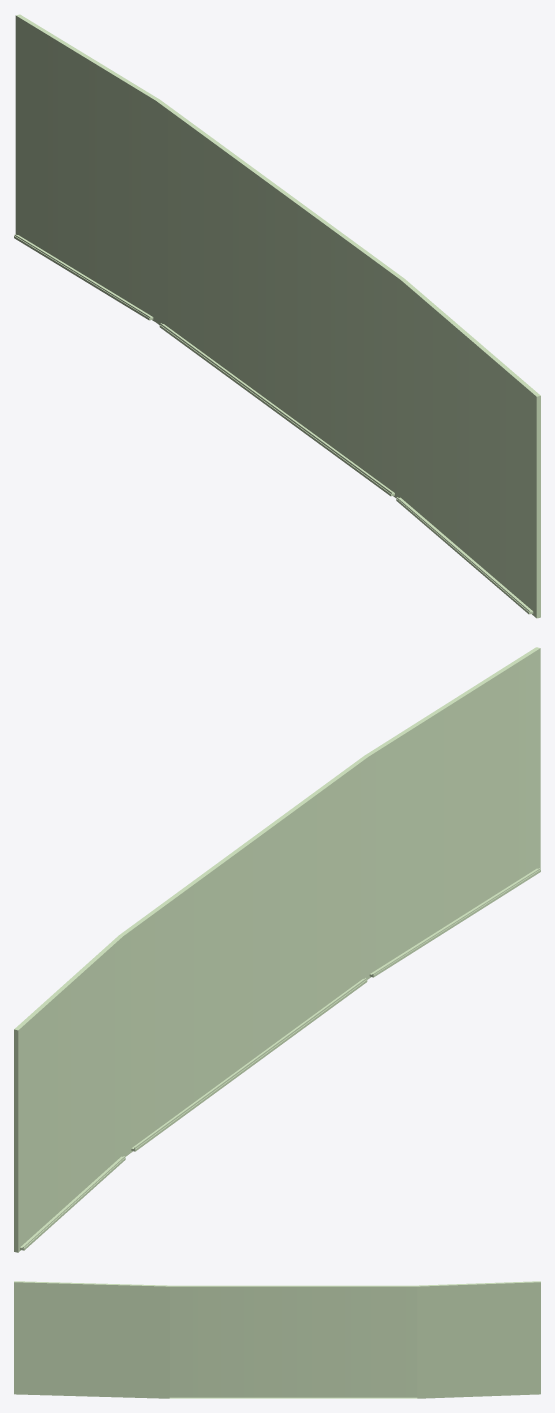
Rendered from SM_BoardBig.fbx.
The picture shows the model from 3 angles, top to bottom: view 1: azimuth 30°, elevation 25°; view 2: azimuth 150°, elevation 25°; view 3: azimuth 270°, elevation 25°; orthographic projection. The views are drawn at different scales.
Visible parts, largest first — view 1: BoardBig; view 2: BoardBig; view 3: BoardBig.
Boxes of the visible parts, <box> form: BoardBig: <box>14,14,540,618</box>; BoardBig: <box>14,647,540,1252</box>; BoardBig: <box>14,1281,540,1398</box>.
Bounding box in the file's own units: 12.3 × 100 × 426.
